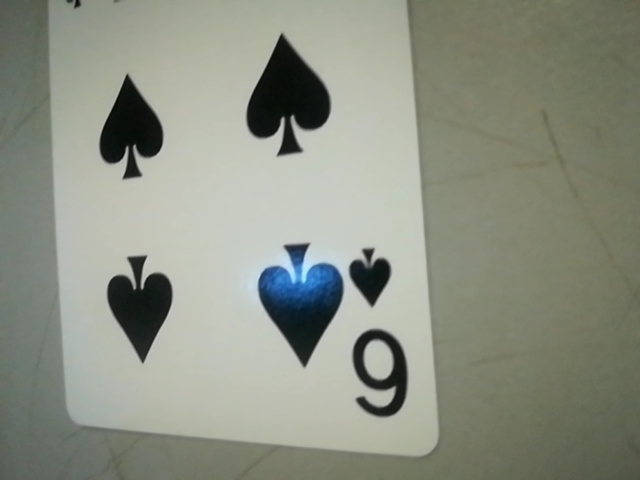ht 6: (341, 217, 424, 439)
